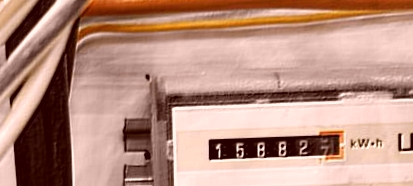1: (214, 142, 223, 158)
2: (297, 138, 308, 155)
5: (235, 141, 245, 158)
7: (320, 144, 329, 156)
8: (256, 141, 266, 158), (277, 140, 287, 157)
screen: (201, 125, 350, 170)
